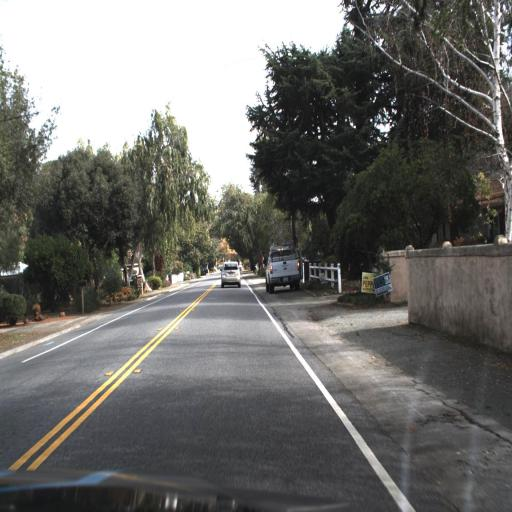car: (263, 244, 302, 290), (218, 260, 242, 289)
